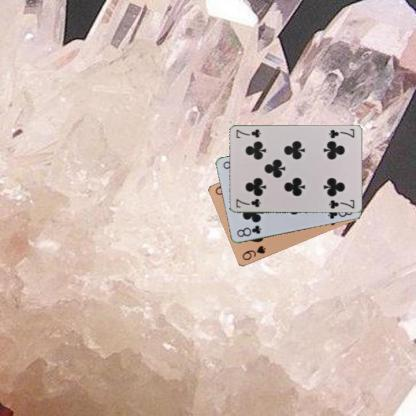7c: (326, 126, 355, 140), (233, 196, 262, 208)
8c: (234, 223, 262, 239)
9s: (240, 243, 267, 262)
